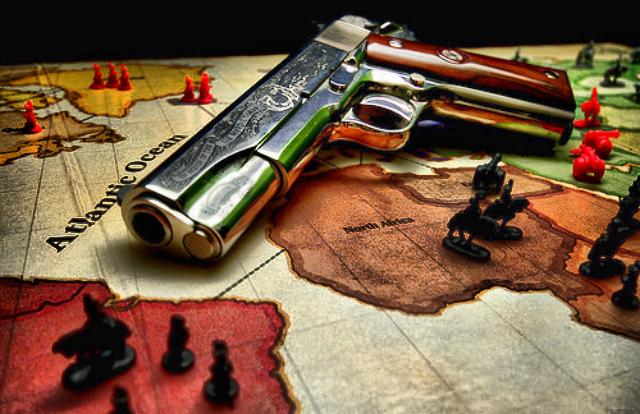pistol: (119, 13, 573, 266)
